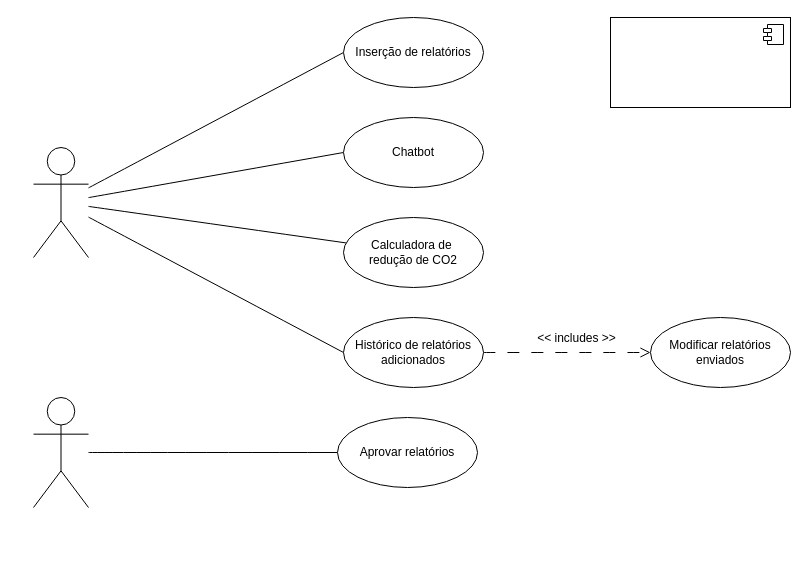
Image size: 808x561. Some labels were removed from this diagram. Here are the shapes that lost their labels. From the top down, the centre of each, then its label:
At (700,62): "«Annotation» Separação em camadas de permissionamento".
At (60,202): "Funcionário de sustentabilidade".
At (60,452): "Gerente de sustentabilidade".
